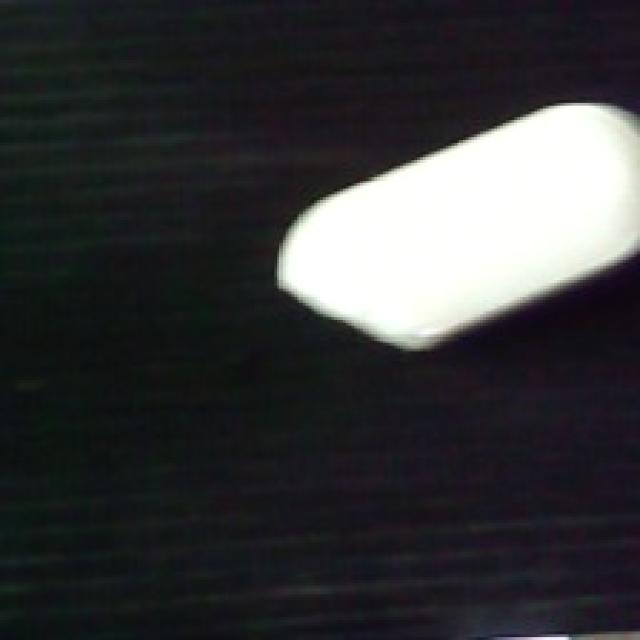defected: (274, 91, 640, 354)
